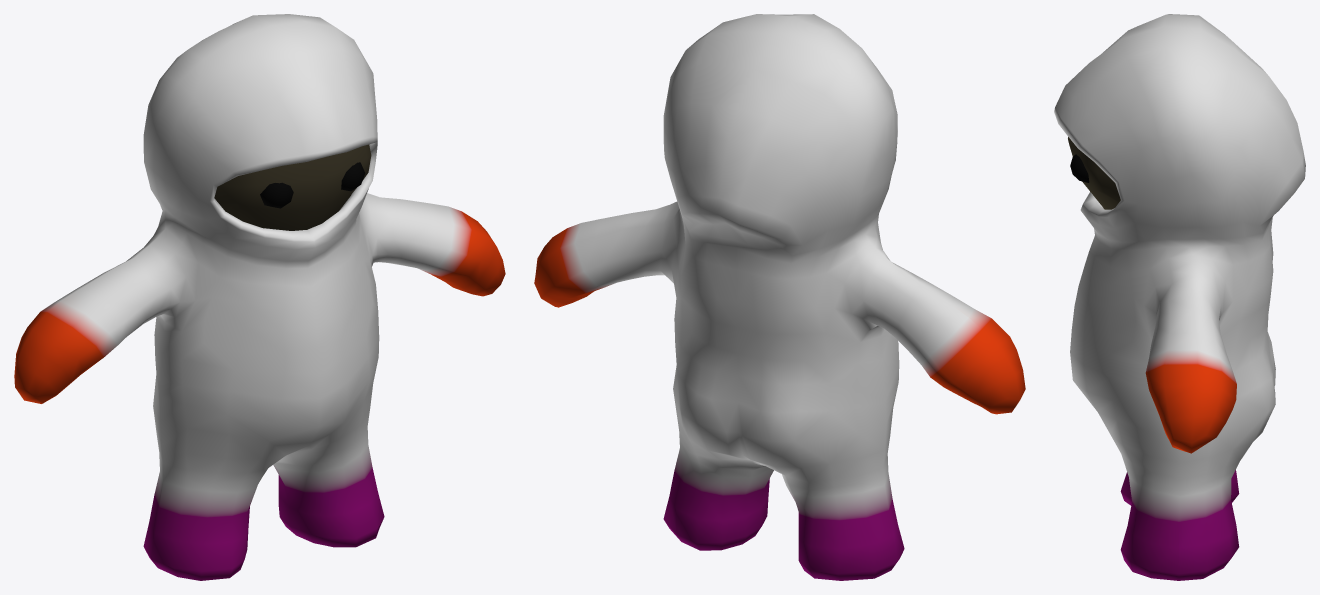
Rendered from characterCustomMat_Moel.fbx.
3 views of the same model, side by side, from view 1: azimuth 30°, elevation 25°; view 2: azimuth 150°, elevation 25°; view 3: azimuth 270°, elevation 25° (orthographic). The views are drawn at different scales.
Visible parts, largest first — view 1: body.002; view 2: body.002; view 3: body.002.
Boxes of the visible parts, x1=… form: body.002: x1=14, y1=14, x2=505, y2=580; body.002: x1=534, y1=14, x2=1025, y2=580; body.002: x1=1054, y1=14, x2=1305, y2=580.
Size of the model in its own units: 508 by 522 by 236.
